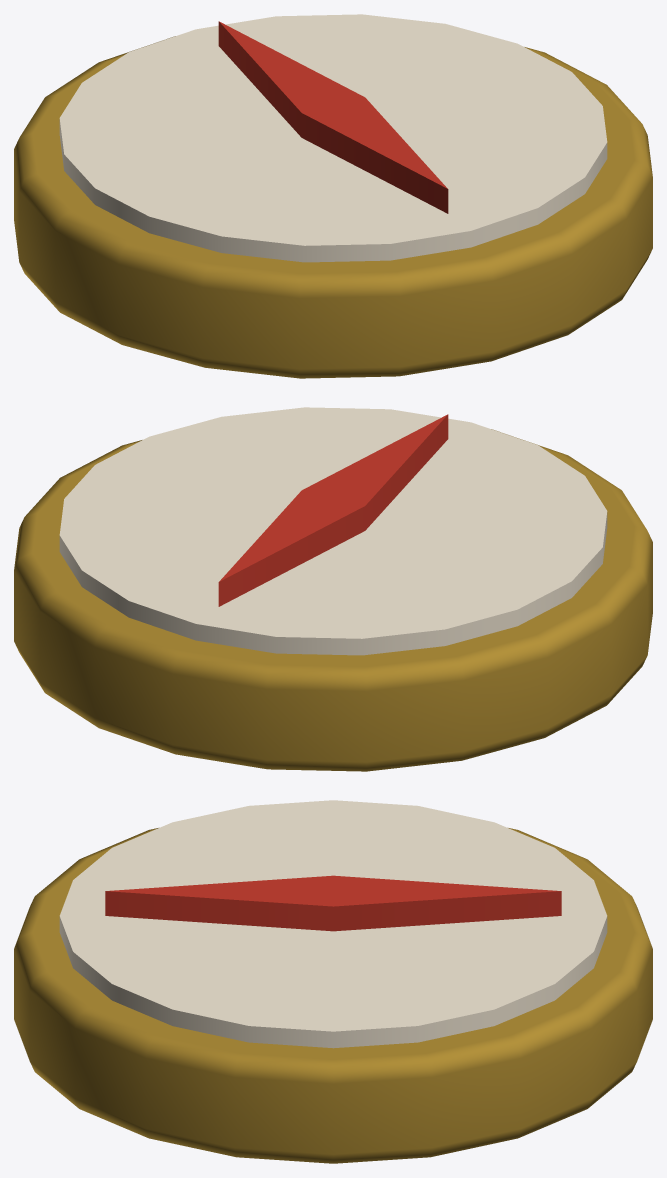
The model's file is hand_compass.glb.
3 renders of one model, top to bottom at view 1: azimuth 30°, elevation 25°; view 2: azimuth 150°, elevation 25°; view 3: azimuth 270°, elevation 25°, orthographic.
Visible parts, largest first — view 1: pv3_hand_compass; view 2: pv3_hand_compass; view 3: pv3_hand_compass.
Boxes of the visible parts, x1,y1,x2,y2 form: pv3_hand_compass: (14,14,652,378); pv3_hand_compass: (14,407,652,771); pv3_hand_compass: (14,800,652,1163).
Size of the model in its own units: 0.14 by 0.035 by 0.14.
